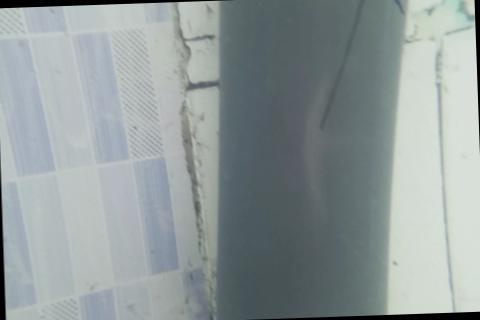keretakan: (315, 0, 370, 130), (389, 0, 406, 17)
